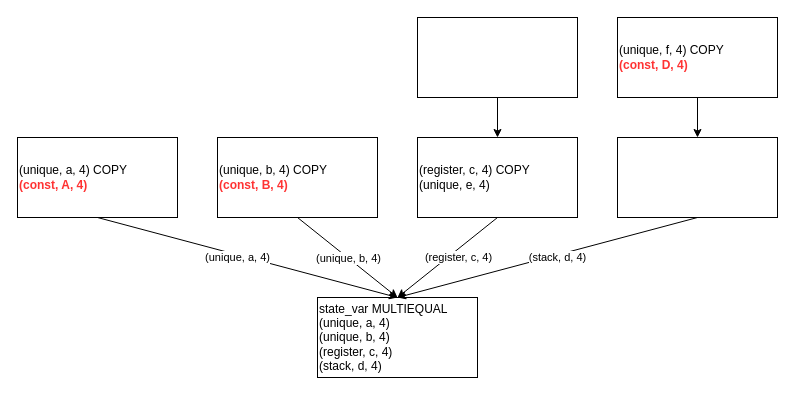
This 795x395 diagram has some shape labels left out. Here are the shapes that lost their labels. From the top down, the centre of each, then its label:
At (x=497, y=57): "(unique, e, 4) COPY (const, C, 4)".
At (x=697, y=177): "(stack, d, 4) COPY (unique, f, 4)".
